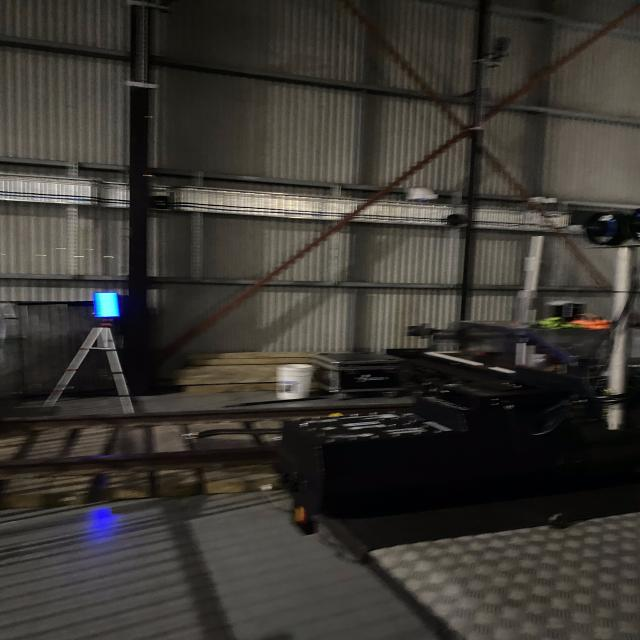matrix: (90, 289, 123, 320)
